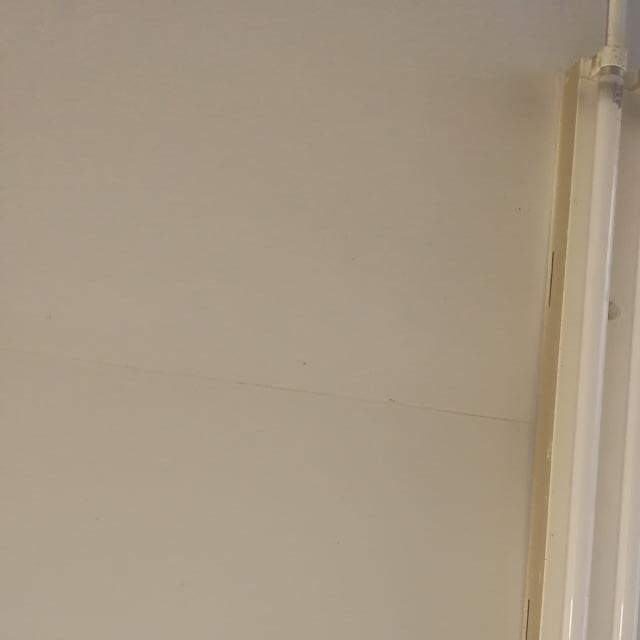fluorescent tube: (443, 12, 640, 640)
